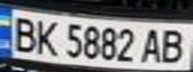2: (115, 25, 139, 63)
5: (60, 20, 84, 60)
8: (81, 22, 103, 61), (100, 24, 121, 62)
A: (139, 26, 166, 64)
B: (6, 14, 39, 53), (157, 26, 190, 64)
K: (30, 17, 60, 56)
